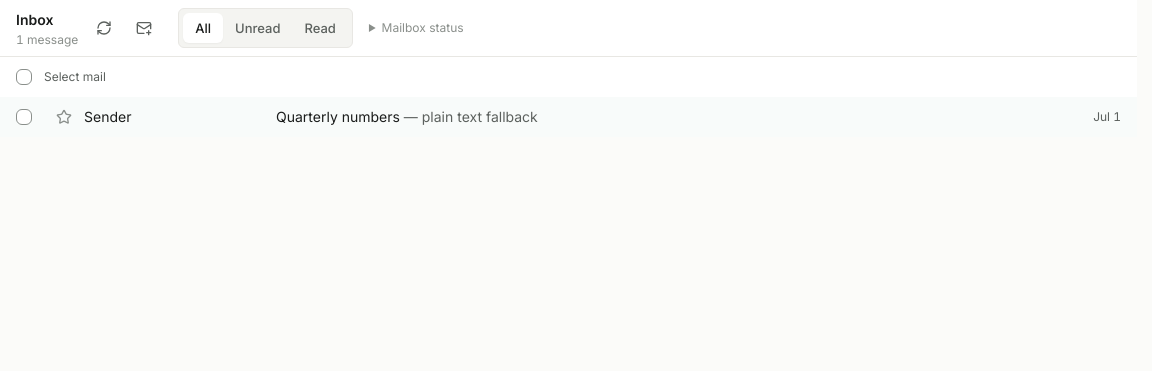
Test: Inbox single-screen navigation › marks a conversation unread and returns to the list
Click the button "Sender Quarterly numbers — plain text fallback" at (108, 117), box x1=84 y1=98 x2=1017 y2=136
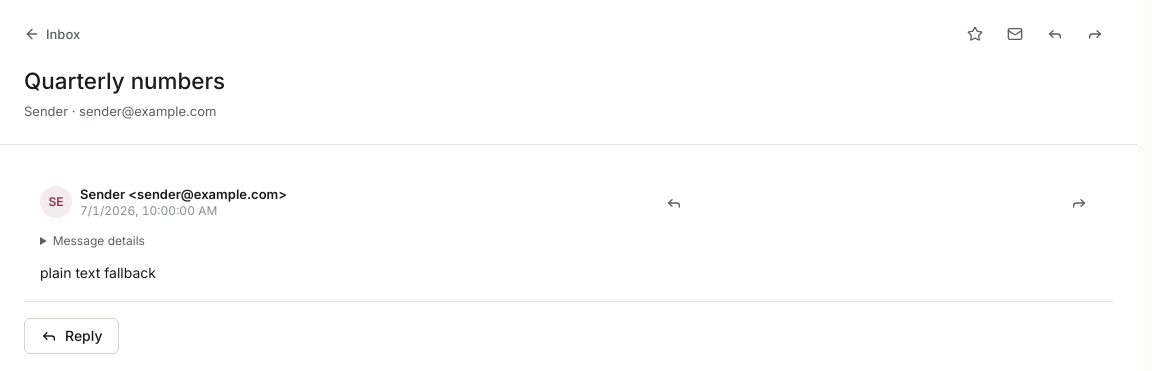
Click the button named "Mark as unread" at (1015, 34), box x1=997 y1=16 x2=1033 y2=52
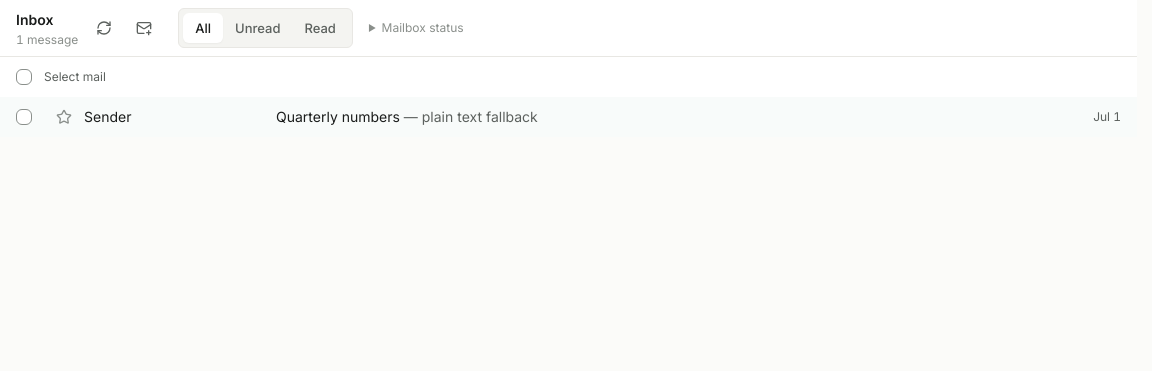
Check: the element with placeholder "Search mail" is shown, box x1=178 y1=8 x2=472 y2=48
